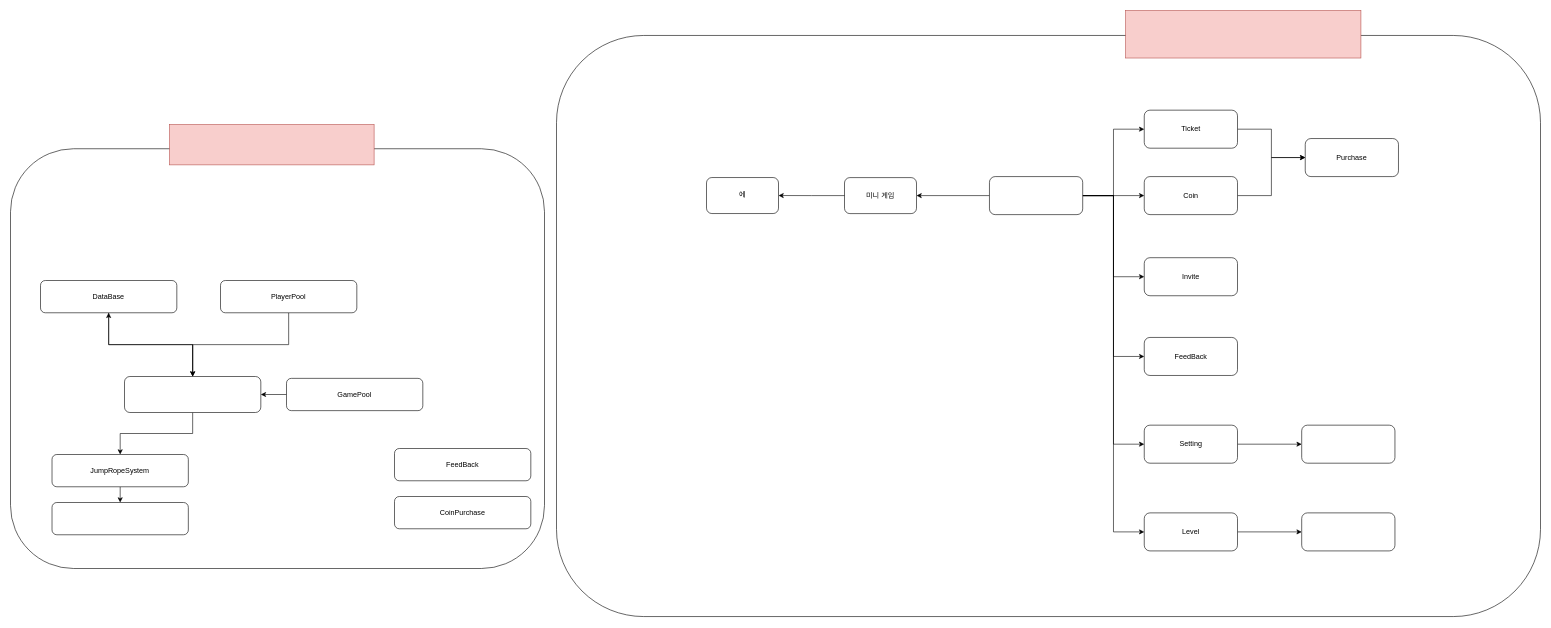
Some shapes in this 1551 by 628 pixel diagram are drawn without their labels. The shapes that lost their labels are listed below. From the top down, each one's centre as x and y in pixels, then its label:
At pixel 1243 34: "Out Game".
At pixel 271 144: "In Game".
At pixel 1036 195: "UI".
At pixel 192 394: "Game Manager".
At pixel 1348 444: "PlayMode / RestMode".
At pixel 119 518: "JumpRopeController".
At pixel 1348 531: "EXP".
